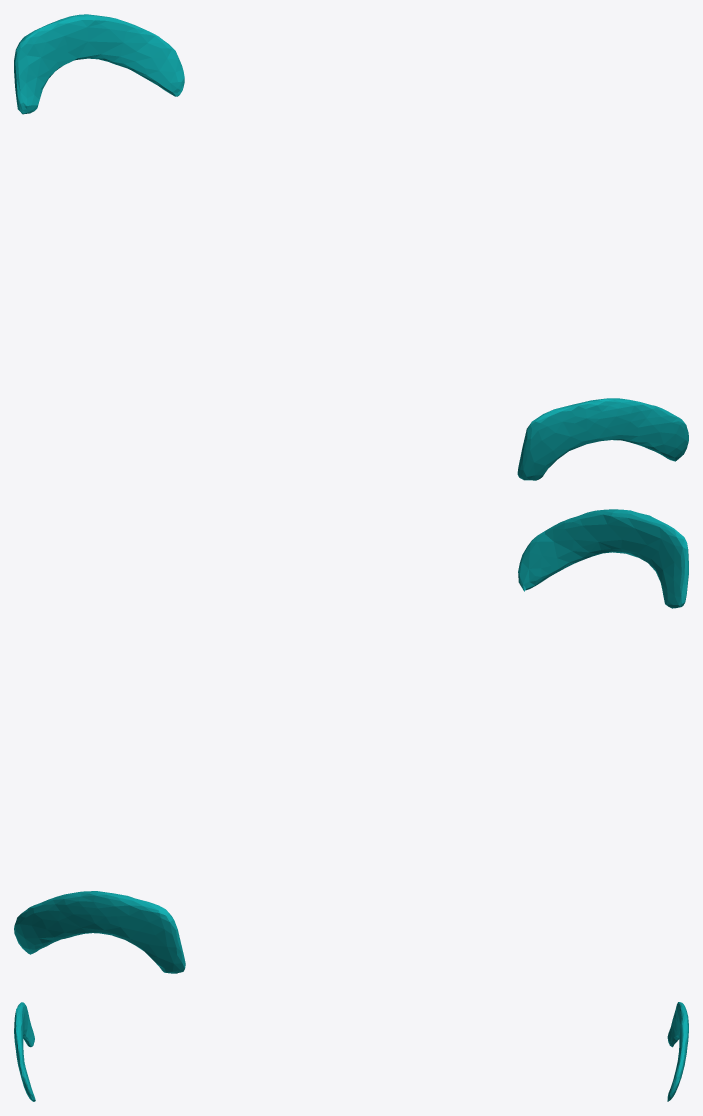
3 renders of one model, top to bottom at view 1: azimuth 30°, elevation 25°; view 2: azimuth 150°, elevation 25°; view 3: azimuth 270°, elevation 25°, orthographic. The views are drawn at different scales.
Visible parts, largest first — view 1: 959.obj; view 2: 959.obj; view 3: 959.obj.
Boxes of the visible parts, x1,y1,x2,y2 form: 959.obj: (14,14,688,480); 959.obj: (14,509,688,973); 959.obj: (14,1002,688,1101).
Bounding box in the file's own units: 1899 × 1001 × 10331.
